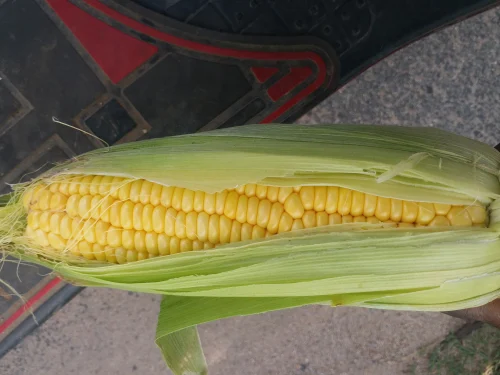corn: (5, 116, 500, 323)
